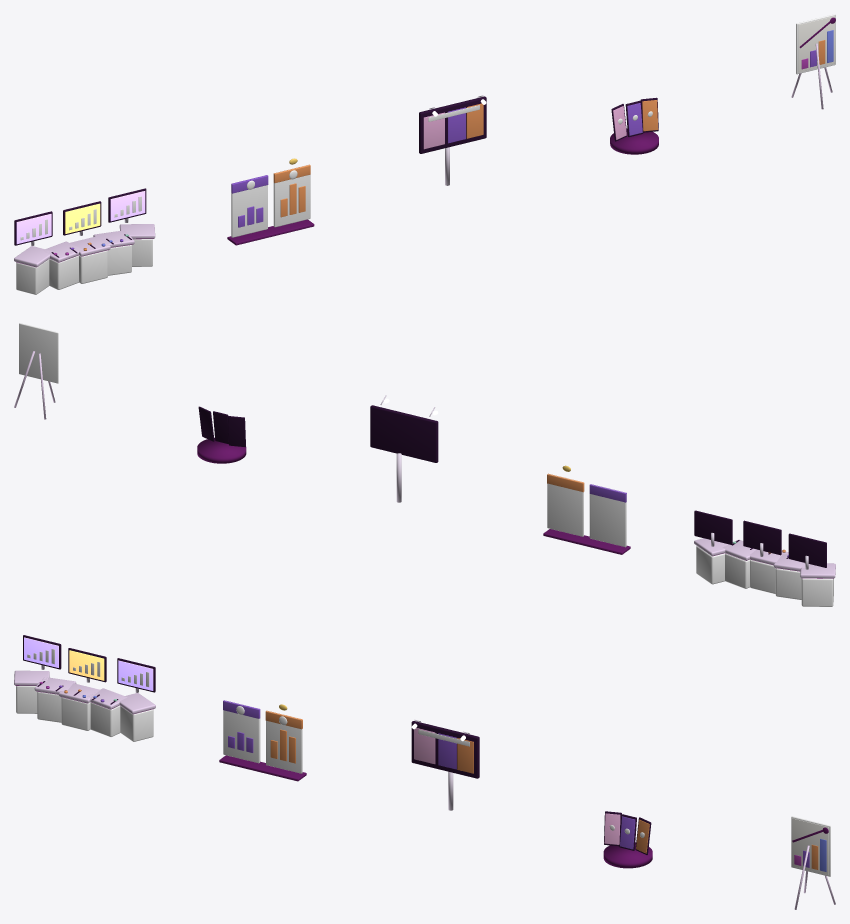
The model's file is ads_b.glb.
3 renders of one model, top to bottom at view 1: azimuth 30°, elevation 25°; view 2: azimuth 150°, elevation 25°; view 3: azimuth 330°, elevation 25°, orthographic.
Visible parts, largest first — view 1: Board, Board.001, Paper, Frame, Body0, Pedestal, Body1, Body2, AFrameBase, MonitorScreen1, MonitorScreen2, MonitorScreen0 (+4 smaller); view 2: Frame, Pad, Board, Board.001, MonitorFrame0, MonitorFrame2, MonitorFrame1, Body0, Pedestal, Body4, AFrameBase, Body1 (+3 smaller); view 3: Board, Paper, Frame, Board.001, Body4, Pedestal, Body3, Body2, AFrameBase, MonitorScreen1, MonitorScreen0, MonitorScreen2 (+4 smaller).
Part boxes in pixels (x1,y1,x2,y2): Board: (231, 185, 267, 237); Board.001: (273, 165, 310, 227); Paper: (798, 16, 834, 72); Frame: (419, 96, 486, 153); Body0: (16, 259, 49, 294); Pedestal: (610, 129, 658, 154); Body1: (49, 255, 79, 289); Body2: (79, 250, 107, 283); AFrameBase: (227, 219, 314, 245); MonitorScreen1: (65, 203, 100, 233); MonitorScreen2: (110, 191, 145, 221); MonitorScreen0: (16, 214, 51, 244); Frame: (370, 405, 438, 462); Pad: (19, 323, 58, 383); Board: (589, 484, 626, 547); Board.001: (547, 474, 583, 536); MonitorFrame0: (788, 533, 826, 567); MonitorFrame2: (694, 510, 732, 544); MonitorFrame1: (743, 520, 781, 555); Body0: (801, 578, 833, 606); Pedestal: (197, 437, 246, 463); Body4: (696, 546, 724, 584); AFrameBase: (543, 529, 630, 554); Body1: (775, 568, 801, 599); Board: (223, 700, 260, 763); Paper: (792, 818, 828, 874); Frame: (411, 721, 479, 778); Board.001: (266, 711, 302, 773); Body4: (120, 706, 153, 741); Pedestal: (603, 842, 652, 868); Body3: (90, 702, 120, 736); Body2: (61, 697, 90, 730); AFrameBase: (219, 755, 306, 781); MonitorScreen1: (69, 650, 104, 680); MonitorScreen0: (24, 637, 58, 667); MonitorScreen2: (118, 660, 153, 690).
Bounding box in the file's own units: 26.99 × 2.92 × 1.46.
